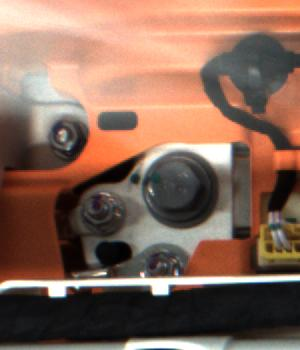nut_b: (140, 143, 218, 224)
screw_s: (80, 191, 123, 237), (43, 115, 85, 158), (141, 243, 186, 278)
